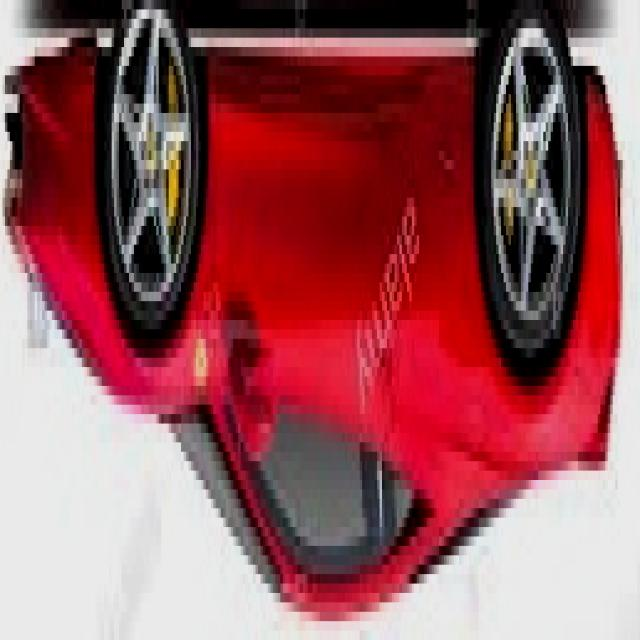red: (0, 0, 629, 621)
